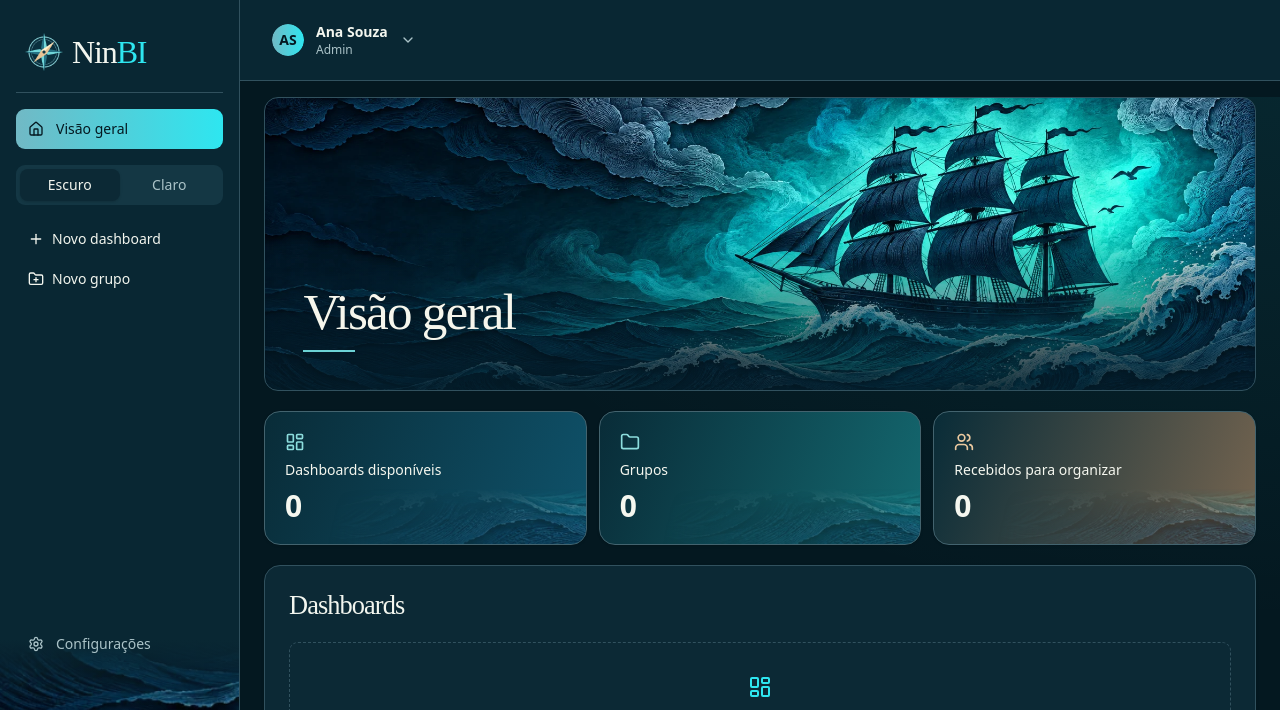
SettingsPage › CFG-01 clicar em Configurações mostra a página com a aba Usuários
The width and height of the screenshot is (1280, 710).
Click the link "Configurações": x=89, y=644 x1=28 y1=634 x2=151 y2=653
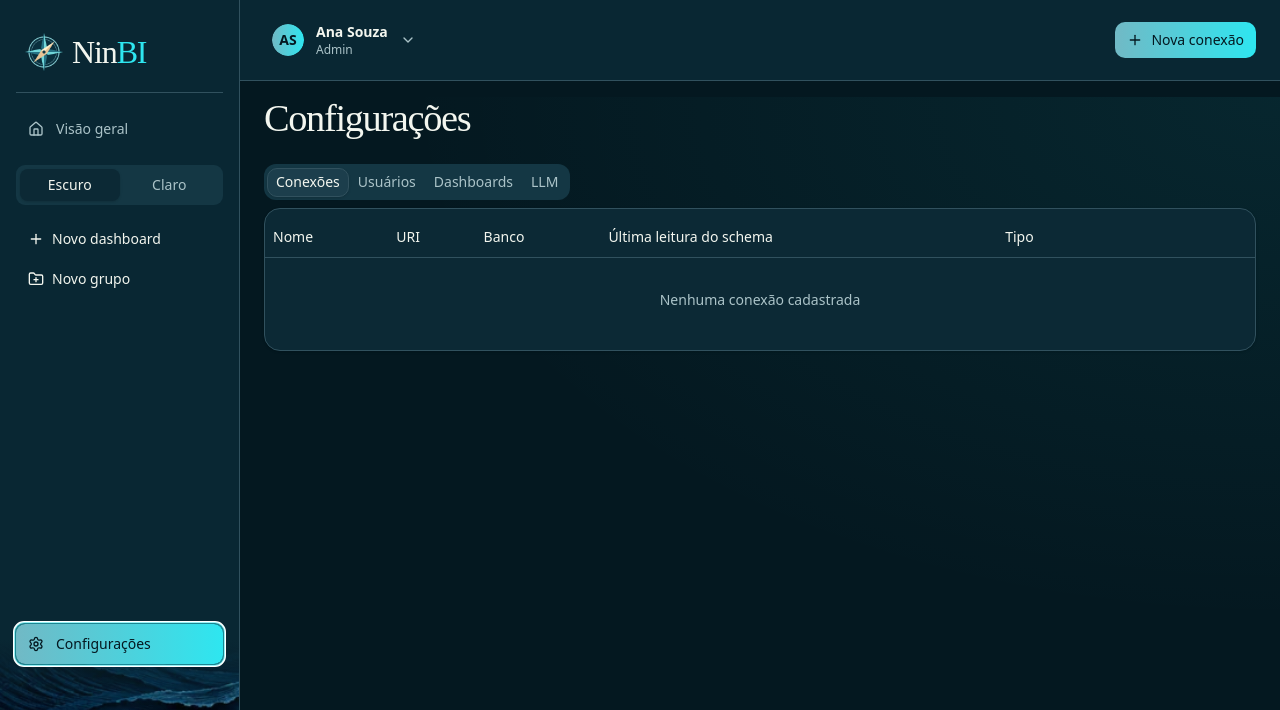
Expected: the heading "Configurações" is shown, x1=264 y1=97 x2=470 y2=139
